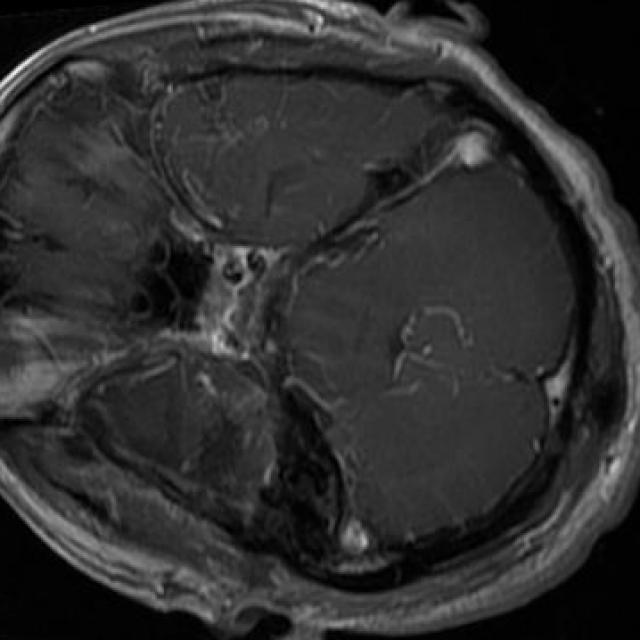glioma: (253, 405, 348, 563)
